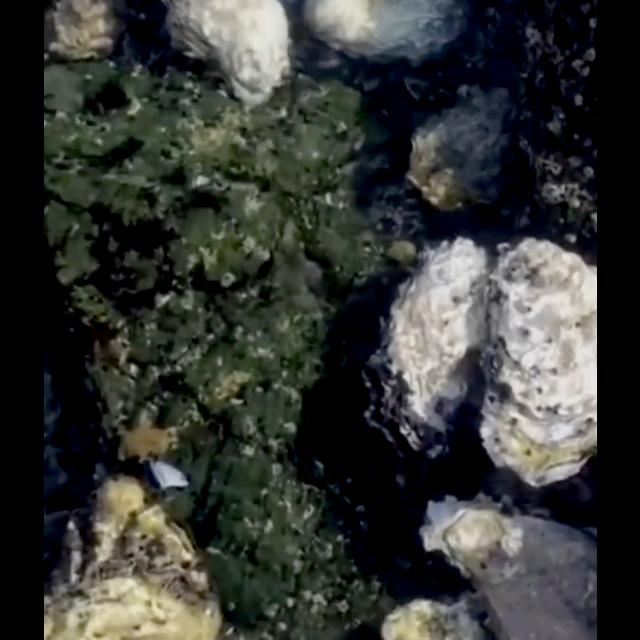Oyster-Closed: (478, 240, 596, 494), (44, 476, 226, 640), (419, 496, 596, 640), (156, 0, 290, 118), (401, 92, 513, 218), (302, 1, 462, 74), (43, 0, 124, 70)
Oyster-Open: (361, 239, 491, 473)
